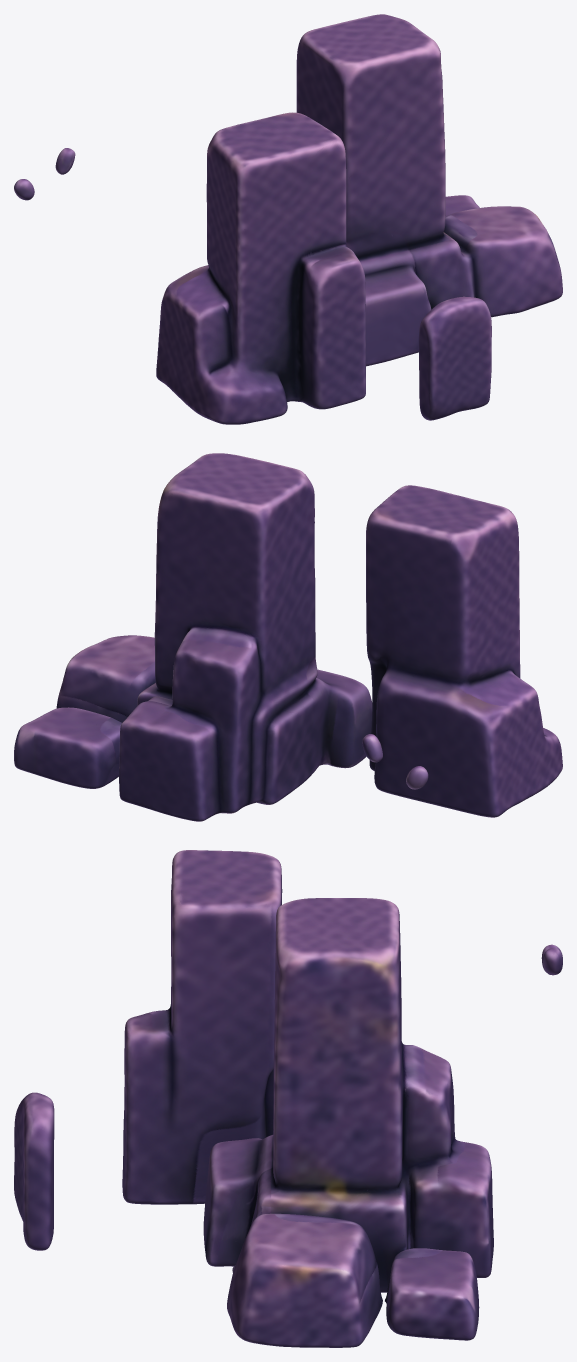
Rendered from Meshy_AI_Amethyst_Ruins_0919001309_texture.glb.
3 renders of one model, top to bottom at view 1: azimuth 30°, elevation 25°; view 2: azimuth 150°, elevation 25°; view 3: azimuth 270°, elevation 25°, orthographic. The views are drawn at different scales.
Bounding box in the file's own units: 1.9 × 1.18 × 1.73.
1 material, 1 textured.
